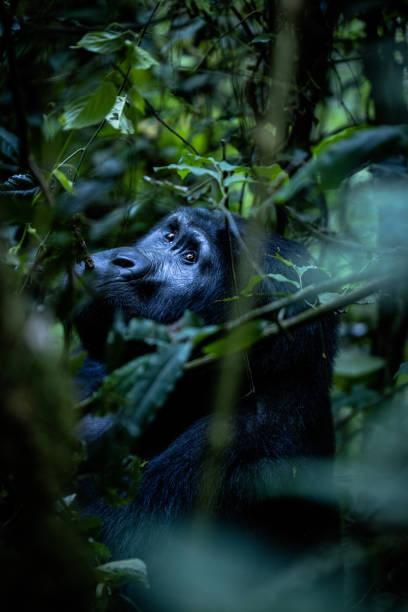goriile_montagne: (43, 144, 404, 538)
